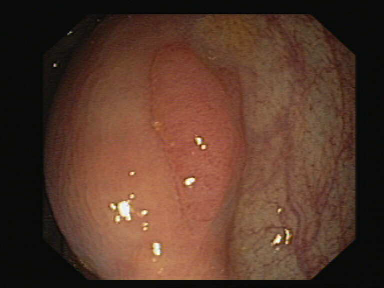polyp: (126, 46, 320, 227)
